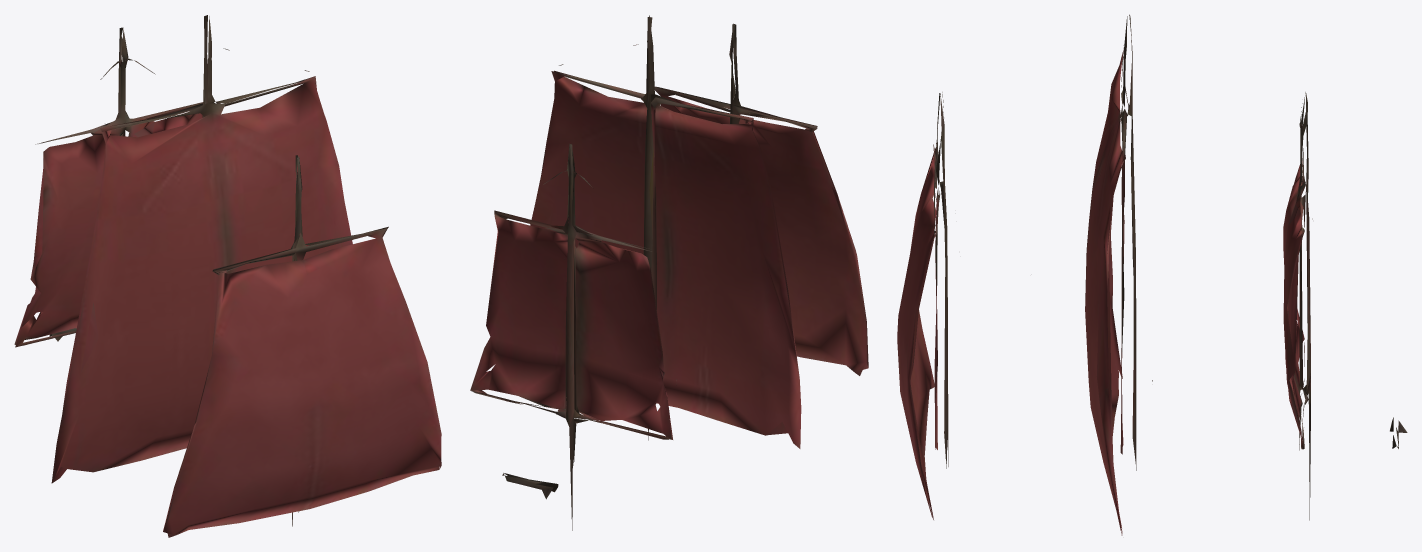
The model's file is buom-daits.glb.
3 views of the same model, side by side, from view 1: azimuth 30°, elevation 25°; view 2: azimuth 150°, elevation 25°; view 3: azimuth 270°, elevation 25° (orthographic). The views are drawn at different scales.
Visible parts, largest first — view 1: DaiThuyen_TS_BUOM; view 2: DaiThuyen_TS_BUOM; view 3: DaiThuyen_TS_BUOM.
Part boxes in pixels (x1,y1,x2,y2): DaiThuyen_TS_BUOM: (14,15,441,537); DaiThuyen_TS_BUOM: (470,15,868,530); DaiThuyen_TS_BUOM: (897,14,1407,535).
Size of the model in its own units: 8.68 by 12.94 by 11.64.
1 material, 1 textured.
